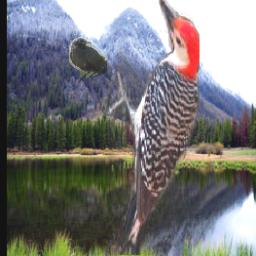Crow: (70, 37, 108, 78)
Woodpecker: (104, 0, 201, 255)
